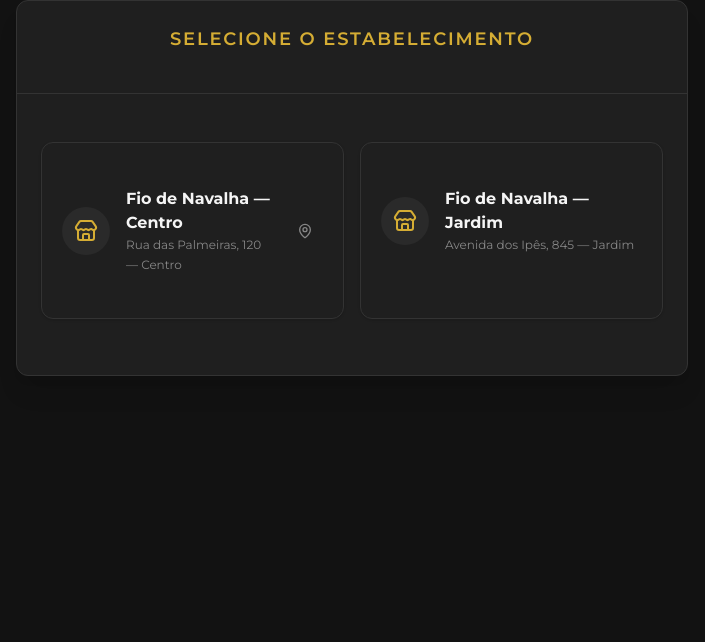
Test: BookingWizard › lets a keyboard user pick a shop, then a service, then a barber
This screenshot has width=705, height=642.
Step 1. Press Enter in the button "Fio de Navalha — Centro Rua das Palmeiras, 120 — Centro", box x1=41 y1=142 x2=344 y2=319
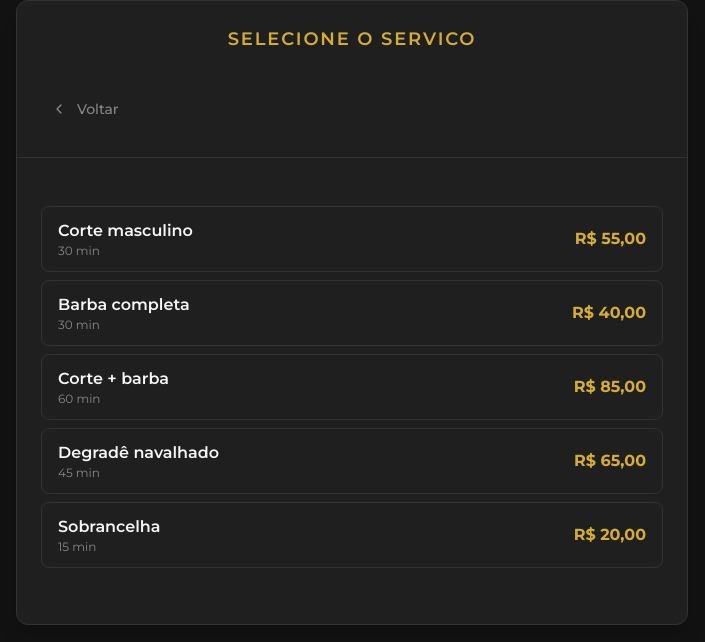
Step 2. Click the button "Corte + barba 60 min R$ 85,00" → [113, 378], box x1=41 y1=354 x2=663 y2=420
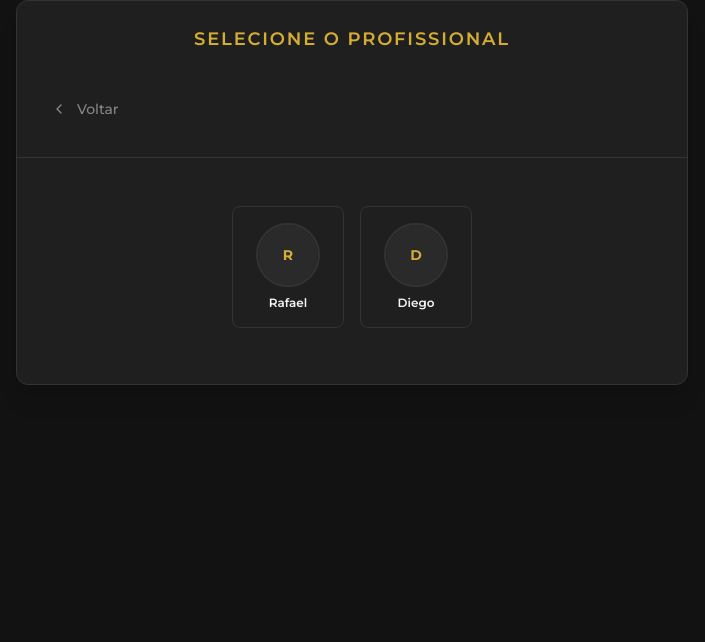
Expected: the text "Rafael" is shown, x1=269 y1=295 x2=307 y2=310
